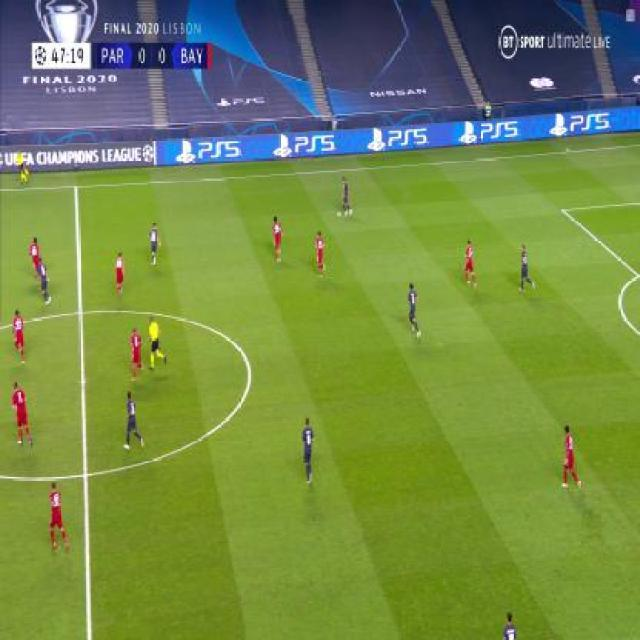ball: (336, 210, 341, 218)
player: (46, 481, 71, 554), (10, 381, 35, 447), (560, 425, 582, 491), (122, 390, 145, 452), (300, 417, 316, 486), (146, 316, 166, 369), (518, 242, 535, 293), (406, 281, 420, 337), (35, 254, 51, 303), (129, 326, 143, 380), (12, 309, 26, 363), (28, 238, 44, 284), (463, 238, 477, 289), (270, 215, 284, 263), (337, 176, 353, 218), (314, 230, 327, 278), (147, 222, 160, 268), (113, 251, 126, 297), (15, 152, 31, 186), (502, 610, 518, 639)
